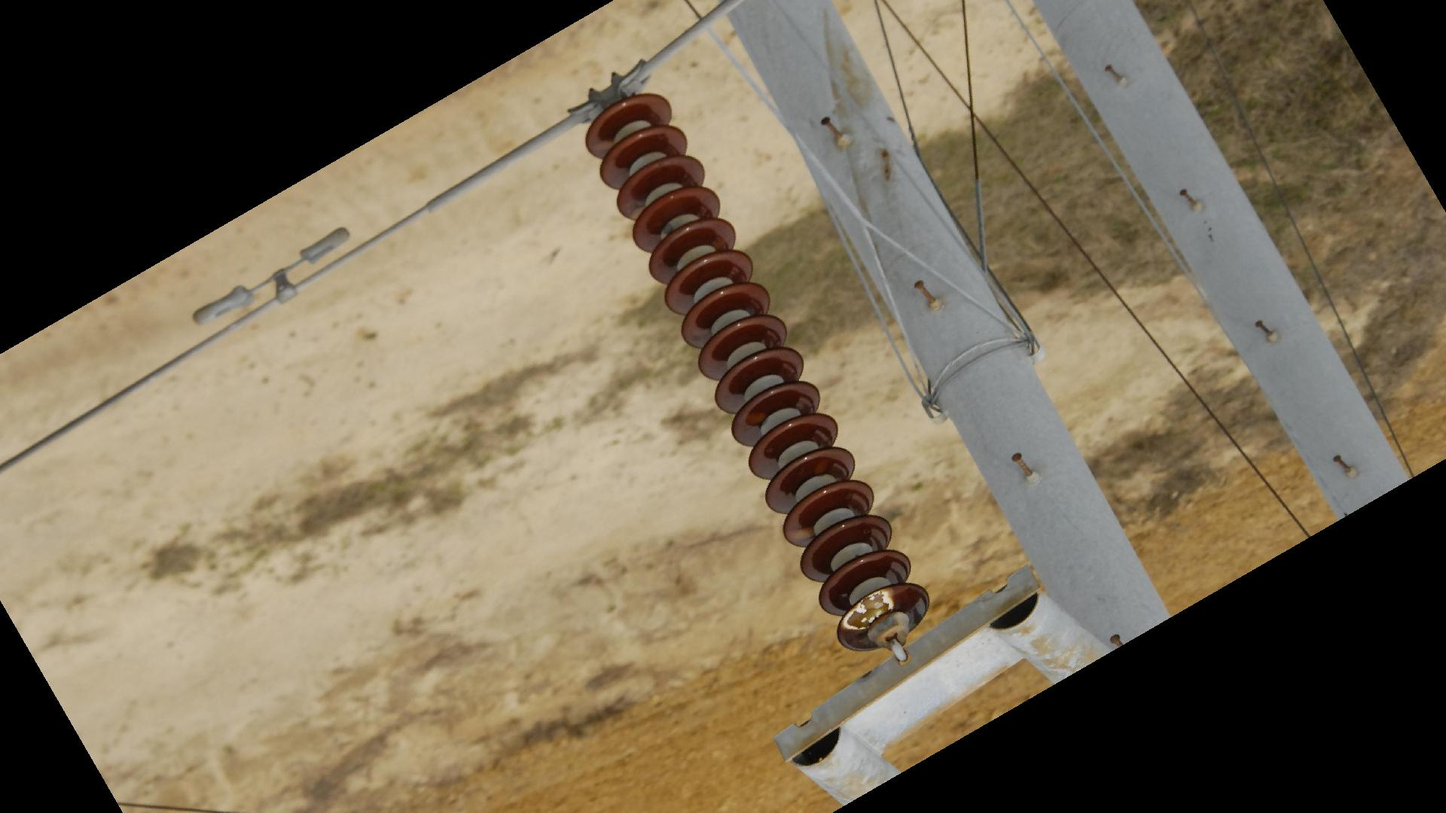insulator: (581, 90, 932, 653)
insulator_flashover: (840, 585, 896, 632), (783, 525, 816, 544)
